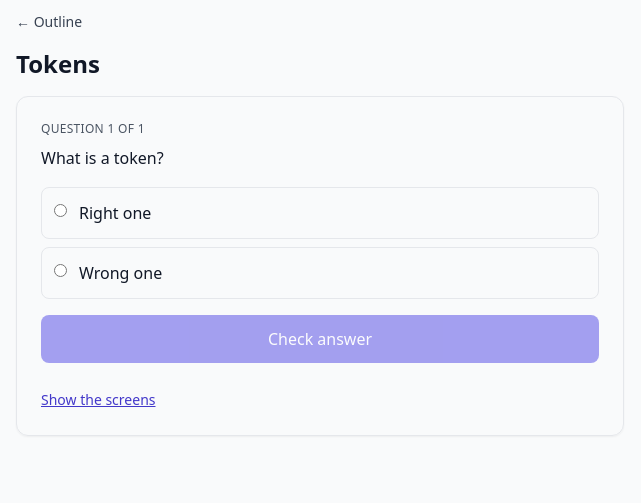
it: LessonPage › passing shows the result and links to what opened
This screenshot has width=641, height=503.
Click the radio button labelled "Right one". click: click(60, 210)
box: [54,204,67,217]
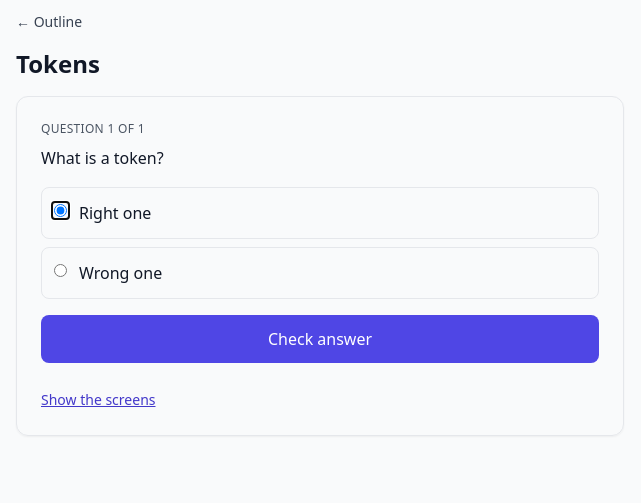
Click the button "Check answer". click: click(320, 339)
box: [41,315,599,363]
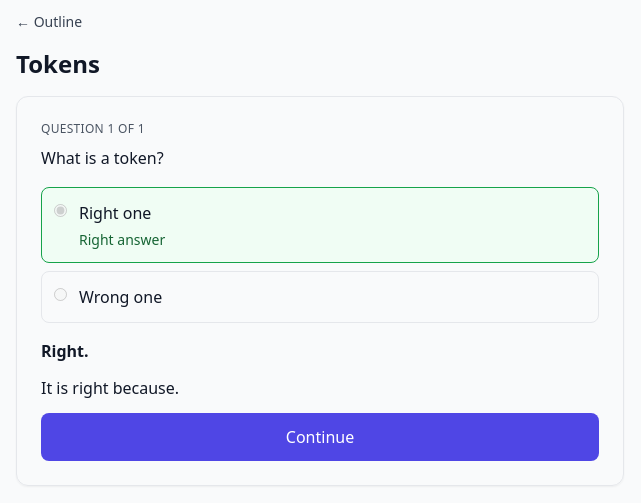
Click the button "Continue". click: click(320, 437)
box: [41,413,599,461]
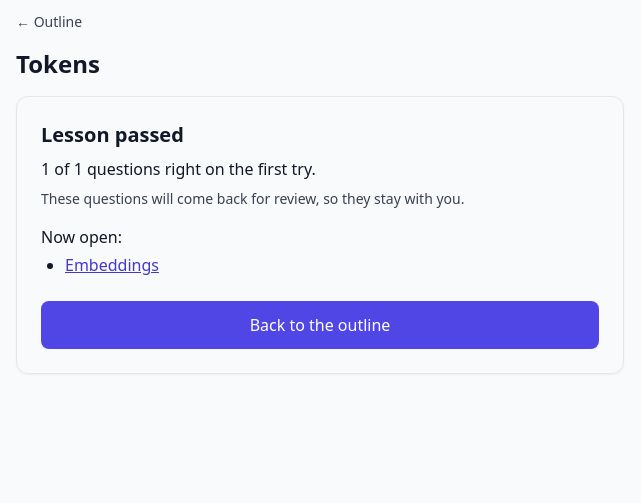
Result: the heading "Lesson passed" is shown at [41,121,184,148]
Result: the text "1 of 1 questions right on the first try." is shown at [41,158,316,180]
